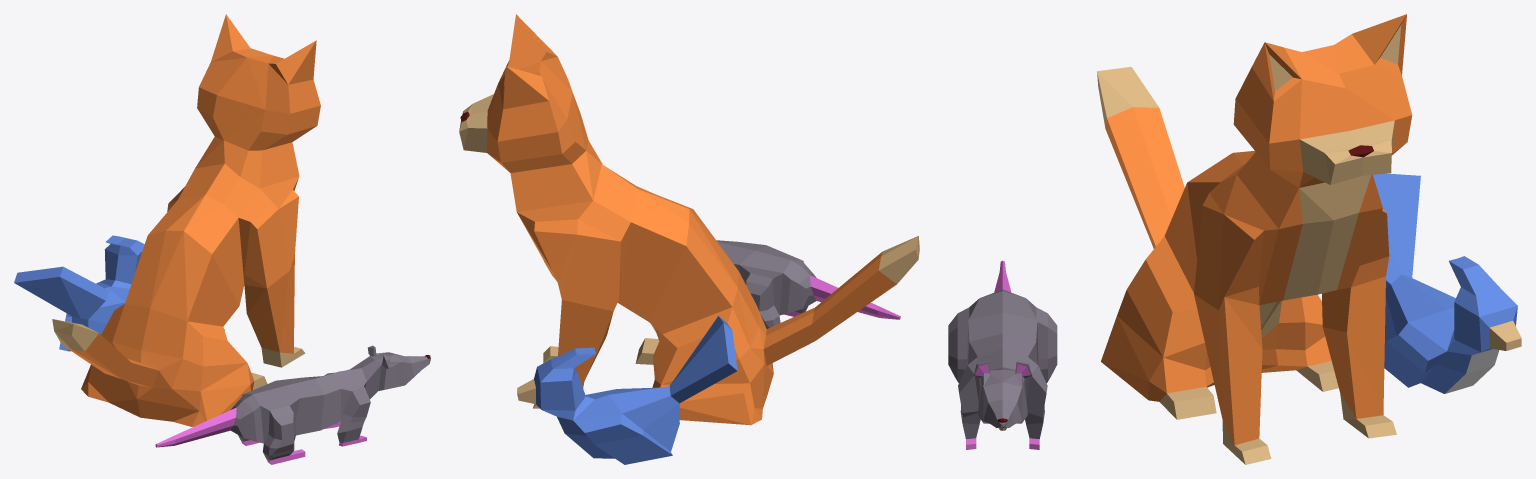
File: urbananimals.glb
The picture shows the model from 3 angles, left to right: view 1: azimuth 30°, elevation 25°; view 2: azimuth 150°, elevation 25°; view 3: azimuth 270°, elevation 25°; orthographic projection. The views are drawn at different scales.
Visible parts, largest first — view 1: gato.002, Cube.006, Cube.007; view 2: gato.002, Cube.007, Cube.006; view 3: gato.002, Cube.007, Cube.006.
Part boxes in pixels (<box>): gato.002: <box>52,14,320,426</box>; Cube.006: <box>155,345,430,464</box>; Cube.007: <box>14,235,144,351</box>; gato.002: <box>459,14,919,425</box>; Cube.007: <box>517,316,737,464</box>; Cube.006: <box>716,240,900,328</box>; gato.002: <box>1097,14,1412,464</box>; Cube.007: <box>1373,173,1521,393</box>; Cube.006: <box>948,260,1057,449</box>.
Size of the model in its own units: 4.38 by 3.91 by 4.55.
8 materials, 1 textured.
